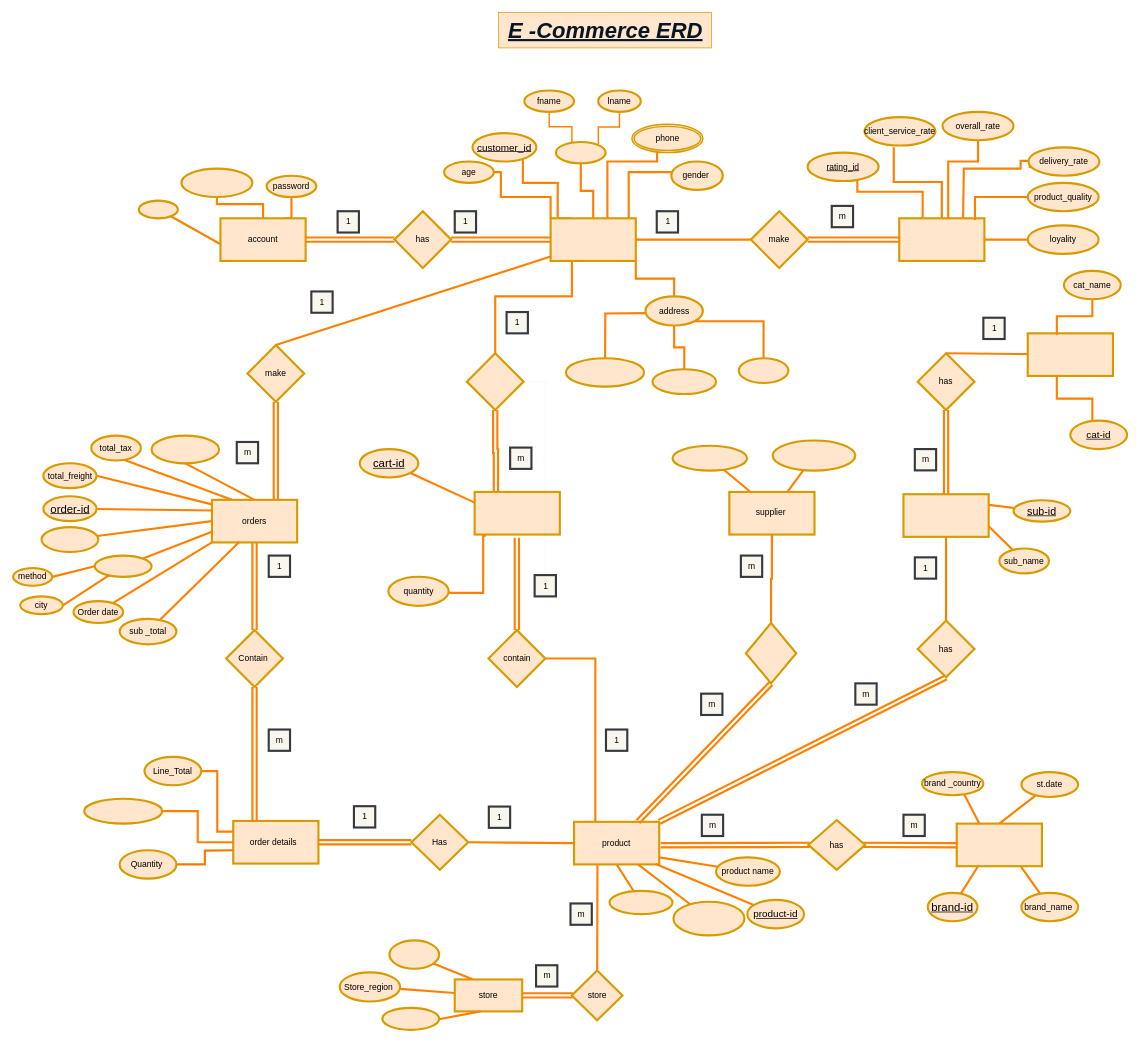
The diagram is 1140 pixels wide and 1043 high, and some of its shapes have lost their labels. Each missing label, with the centre of its shape:
"account_id" belongs at point (216, 182).
"brand" belongs at point (999, 844).
"cart" belongs at point (517, 513).
"category" belongs at point (1070, 354).
"Customer city" belongs at point (684, 381).
"Customer country" belongs at point (605, 372).
"customers" belongs at point (593, 239).
"email" belongs at point (158, 209).
"get" belongs at point (494, 381).
"name" belongs at point (580, 152).
"Order details ID" belongs at point (123, 810).
"Payment_method" belongs at point (185, 449).
"Product_cost" belongs at point (640, 902).
"Product_price" belongs at point (708, 918).
"ratings" belongs at point (941, 239).
"shipping" belongs at point (122, 566).
"store-ID" belongs at point (414, 954).
"Store_name" belongs at point (410, 1018).
"subcategory" belongs at point (945, 515).
"Supplier id" belongs at point (813, 455).
"Supplier name" belongs at point (709, 457).
"supply" belongs at point (770, 653).
"total_due" belongs at point (69, 539).
"Zip" belongs at point (763, 370).
